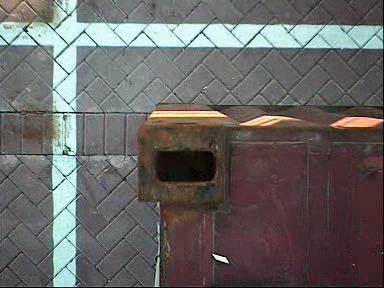groundmarker_2: (195, 232, 248, 288), (189, 32, 242, 87)
